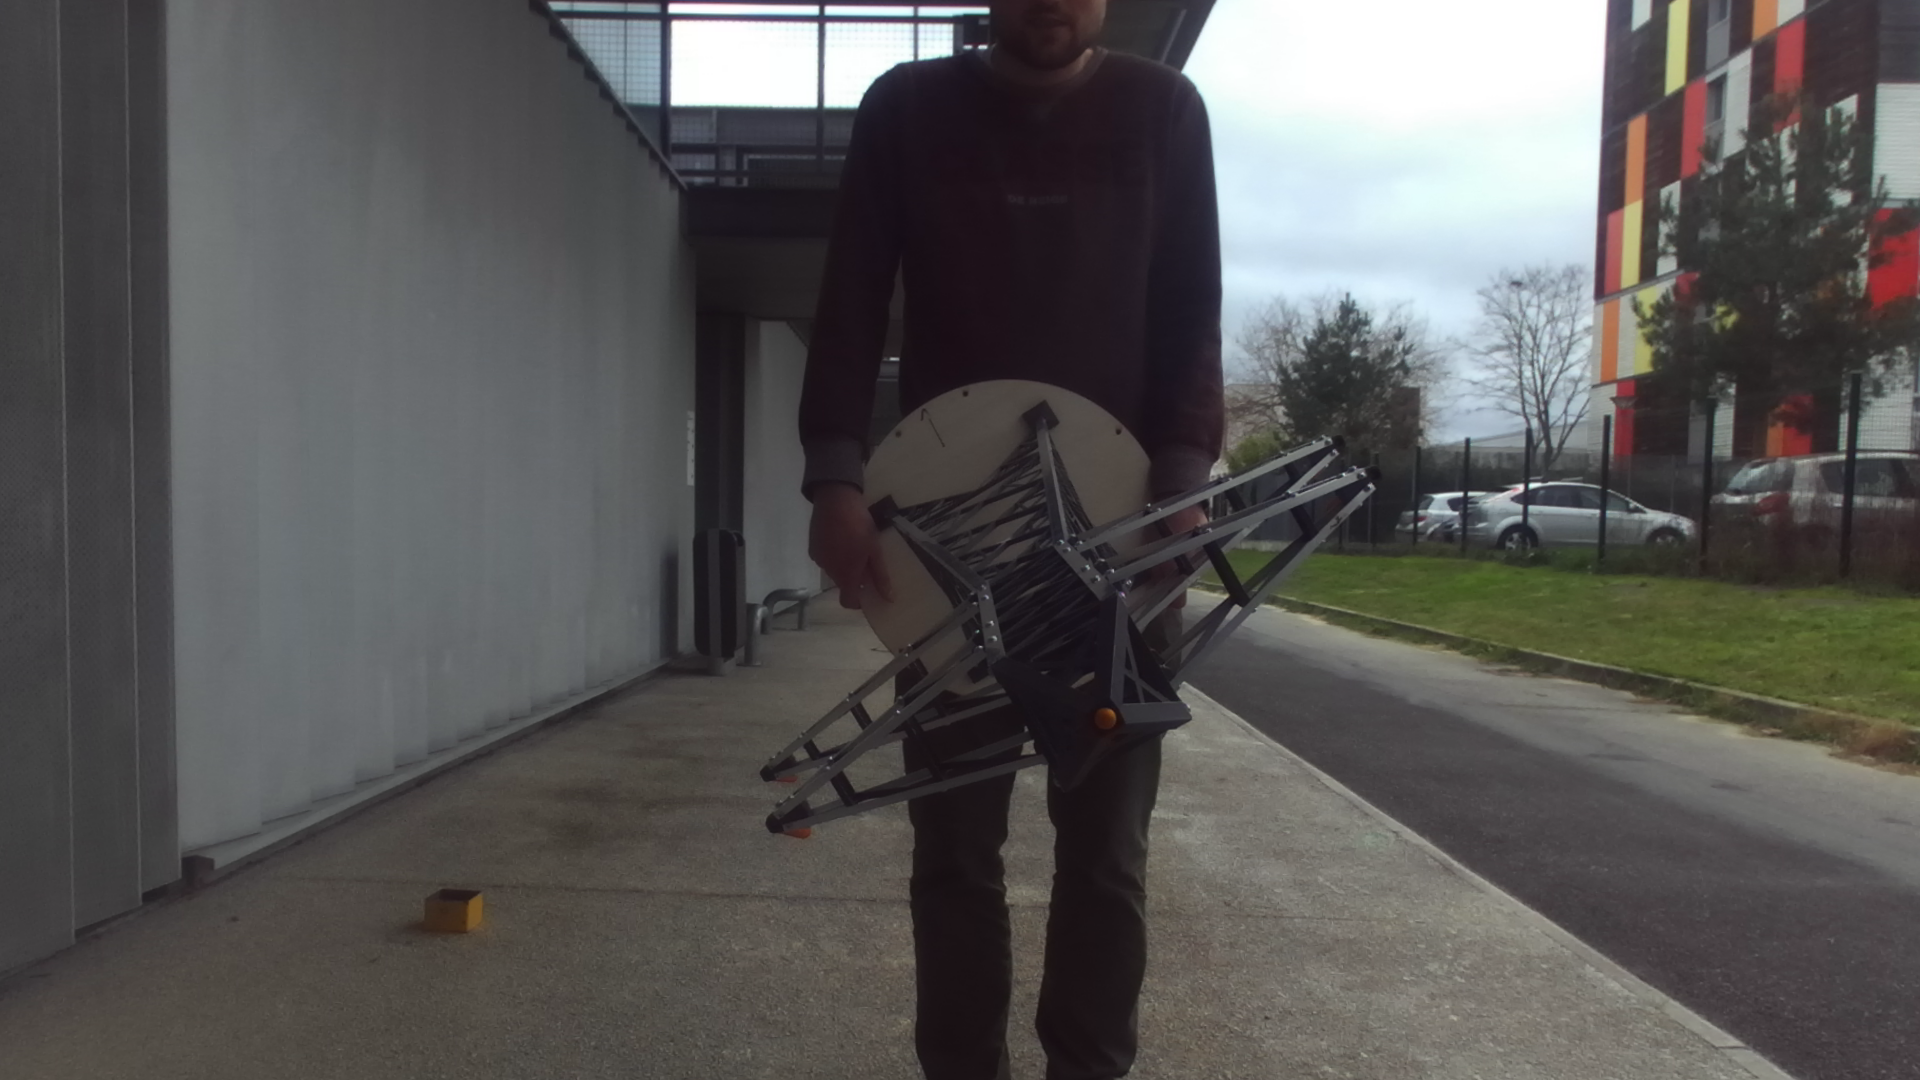pylon_phy: (760, 460, 1387, 833)
